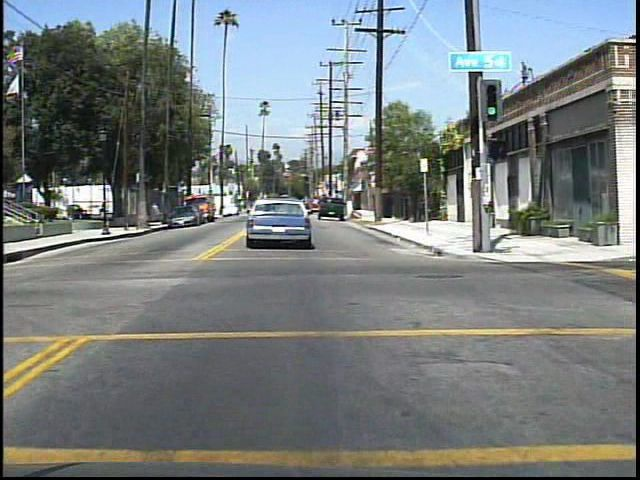person: (152, 205, 166, 230), (120, 195, 132, 218), (100, 198, 108, 220)
